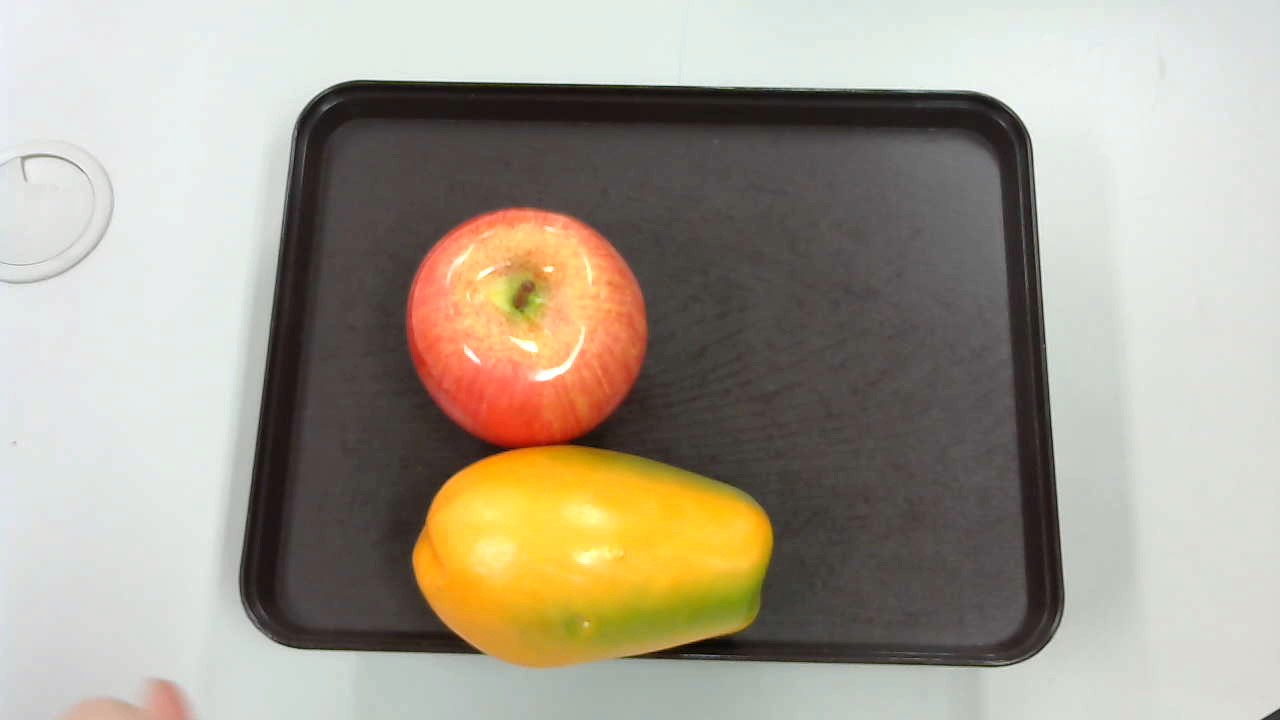papya: (407, 448, 775, 669)
red apple: (407, 205, 644, 447)
